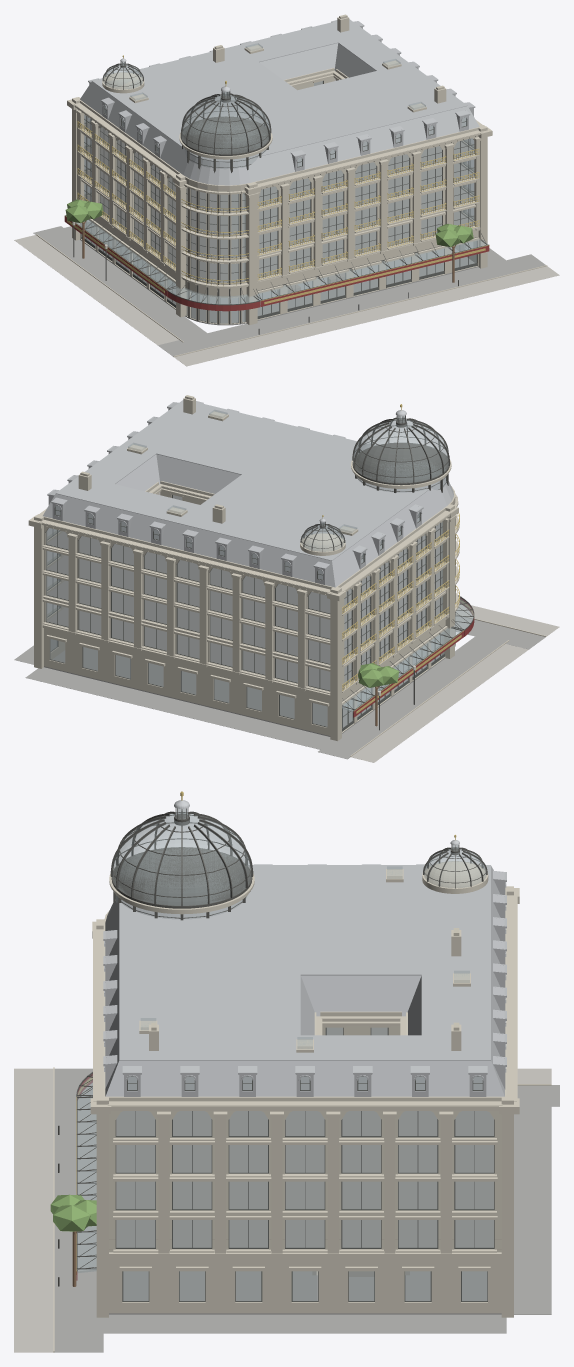
The model's file is clay-grand-magasin-clay-v001.glb.
The picture shows the model from 3 angles, top to bottom: view 1: azimuth 30°, elevation 25°; view 2: azimuth 150°, elevation 25°; view 3: azimuth 270°, elevation 25°; orthographic projection. The views are drawn at different scales.
Visible parts, largest first — view 1: CLAY_STONE, CLAY_ZINC, CLAY_GLASS, CLAY_FLOOR, CLAY_FOUNDATION, CLAY_GILT, CLAY_HARDWARE, CLAY_CONCRETE, CLAY_TRIM, CLAY_WALL, CLAY_SIGNBAND, CLAY_PLANTING; view 2: CLAY_STONE, CLAY_ZINC, CLAY_GLASS, CLAY_FLOOR, CLAY_FOUNDATION, CLAY_TRIM, CLAY_HARDWARE, CLAY_WALL, CLAY_CONCRETE, CLAY_GILT, CLAY_PLANTING, CLAY_SIGNBAND; view 3: CLAY_ZINC, CLAY_STONE, CLAY_GLASS, CLAY_FOUNDATION, CLAY_FLOOR, CLAY_WALL, CLAY_HARDWARE, CLAY_CONCRETE, CLAY_TRIM, CLAY_PLANTING.
Boxes of the visible parts, bbox=[...] form: CLAY_STONE: bbox=[35, 17, 547, 356]; CLAY_ZINC: bbox=[80, 19, 479, 189]; CLAY_GLASS: bbox=[76, 43, 487, 323]; CLAY_FLOOR: bbox=[85, 78, 474, 282]; CLAY_FOUNDATION: bbox=[33, 222, 545, 356]; CLAY_GILT: bbox=[64, 55, 489, 304]; CLAY_HARDWARE: bbox=[65, 61, 488, 334]; CLAY_CONCRETE: bbox=[14, 235, 559, 366]; CLAY_TRIM: bbox=[81, 81, 477, 323]; CLAY_WALL: bbox=[79, 68, 480, 273]; CLAY_SIGNBAND: bbox=[64, 216, 489, 311]; CLAY_PLANTING: bbox=[65, 199, 473, 247]; CLAY_STONE: bbox=[28, 397, 546, 756]; CLAY_ZINC: bbox=[43, 400, 453, 587]; CLAY_GLASS: bbox=[46, 409, 473, 727]; CLAY_FLOOR: bbox=[47, 492, 441, 690]; CLAY_FOUNDATION: bbox=[14, 615, 545, 759]; CLAY_TRIM: bbox=[45, 495, 444, 731]; CLAY_HARDWARE: bbox=[300, 415, 474, 730]; CLAY_WALL: bbox=[41, 481, 446, 691]; CLAY_CONCRETE: bbox=[351, 604, 559, 762]; CLAY_GILT: bbox=[322, 404, 473, 713]; CLAY_PLANTING: bbox=[358, 663, 399, 687]; CLAY_SIGNBAND: bbox=[353, 597, 474, 717]; CLAY_ZINC: bbox=[103, 800, 506, 1096]; CLAY_STONE: bbox=[53, 861, 551, 1352]; CLAY_GLASS: bbox=[77, 808, 493, 1300]; CLAY_FOUNDATION: bbox=[54, 1068, 559, 1352]; CLAY_FLOOR: bbox=[116, 1027, 493, 1247]; CLAY_WALL: bbox=[103, 889, 506, 1276]; CLAY_HARDWARE: bbox=[58, 808, 487, 1286]; CLAY_CONCRETE: bbox=[14, 1068, 551, 1352]; CLAY_TRIM: bbox=[115, 1027, 494, 1301]; CLAY_PLANTING: bbox=[50, 1194, 96, 1231].
Bounding box in the file's own units: 60 × 34.3 × 48.75.
